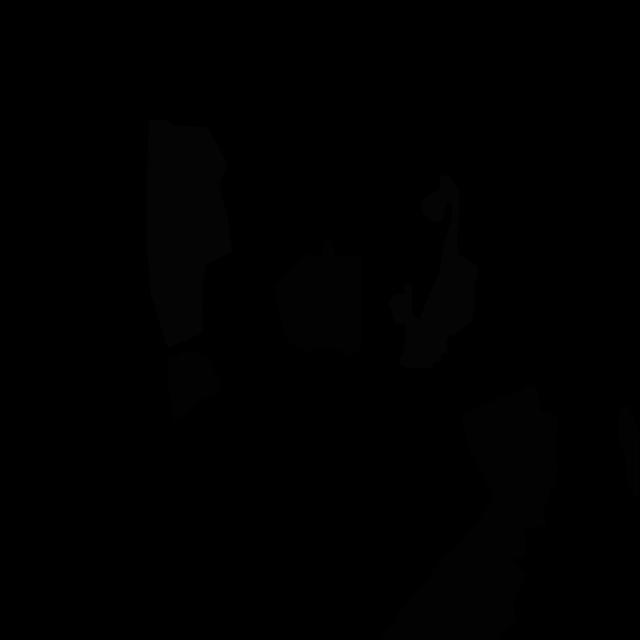cardboard: (378, 383, 558, 640), (274, 237, 362, 356), (167, 351, 221, 421), (618, 404, 640, 499)
soft_plastic: (146, 119, 232, 348), (388, 174, 478, 368)
